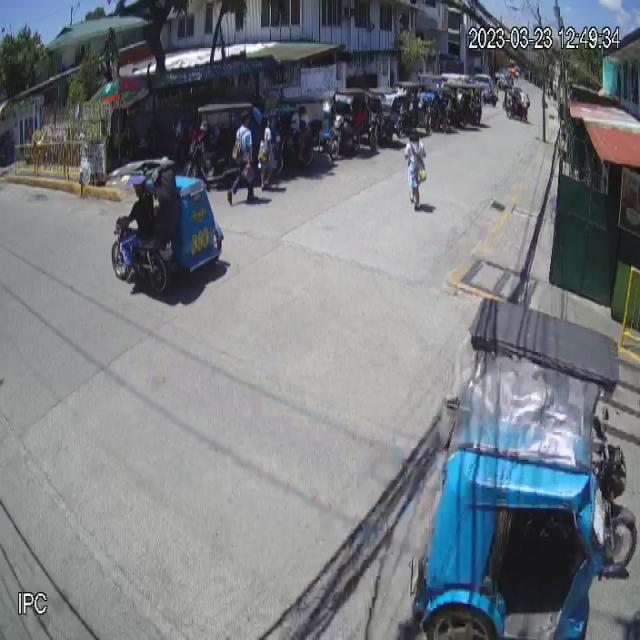Tricycle: (406, 290, 637, 640), (106, 158, 226, 294)
